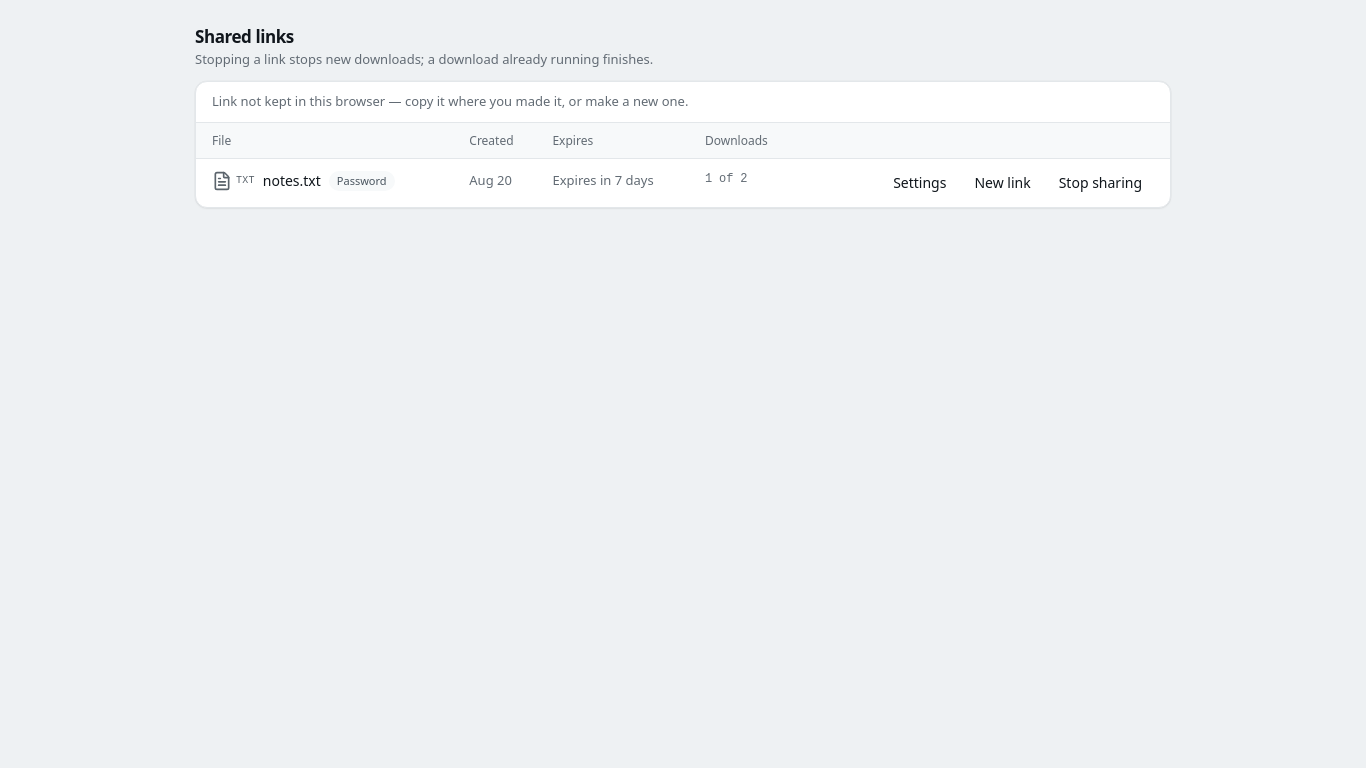
Test case: the actions › Stop sharing asks, then revokes and the row leaves
Expected: the link "notes.txt" is shown, [263,171,321,191]
Click the button "Stop sharing" at (1100,183), box [1047,167,1154,199]
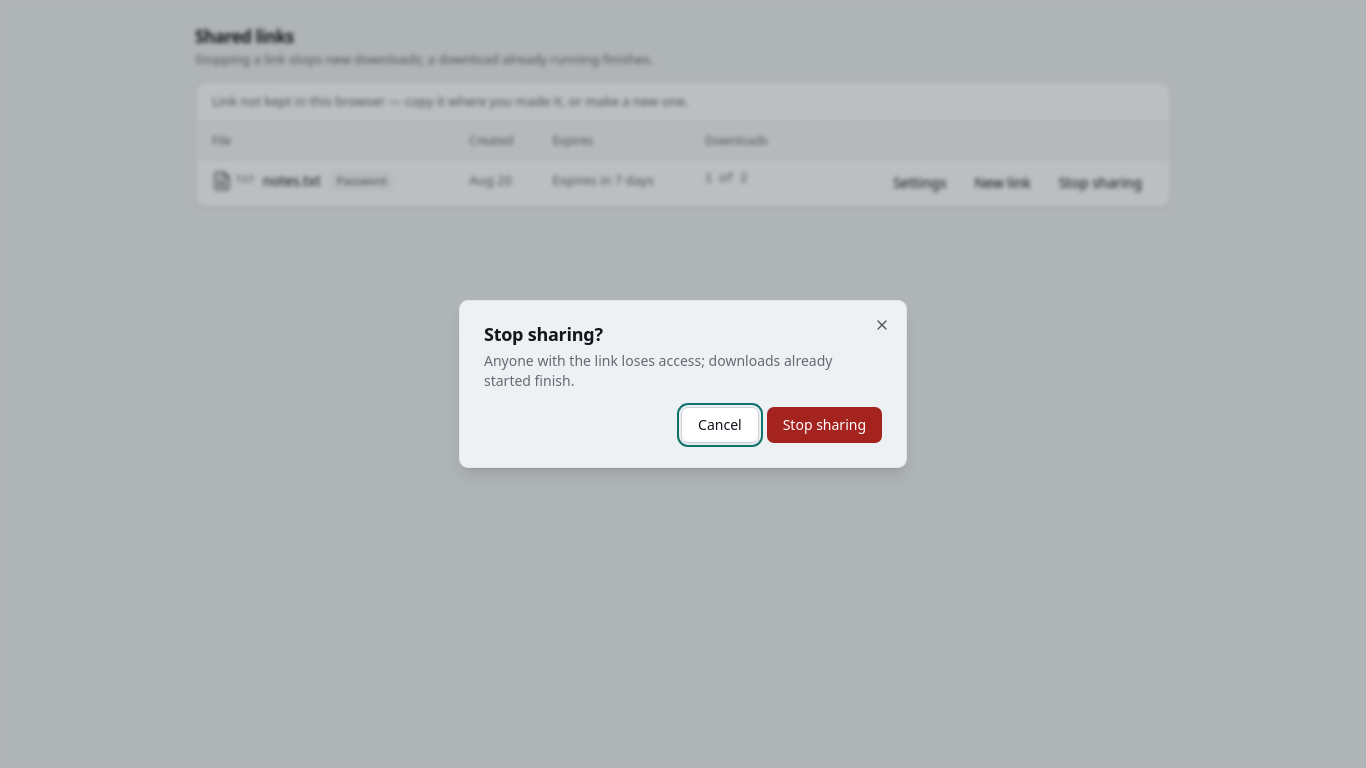
Click the button "Stop sharing" at (824,425), box [767,407,882,443]
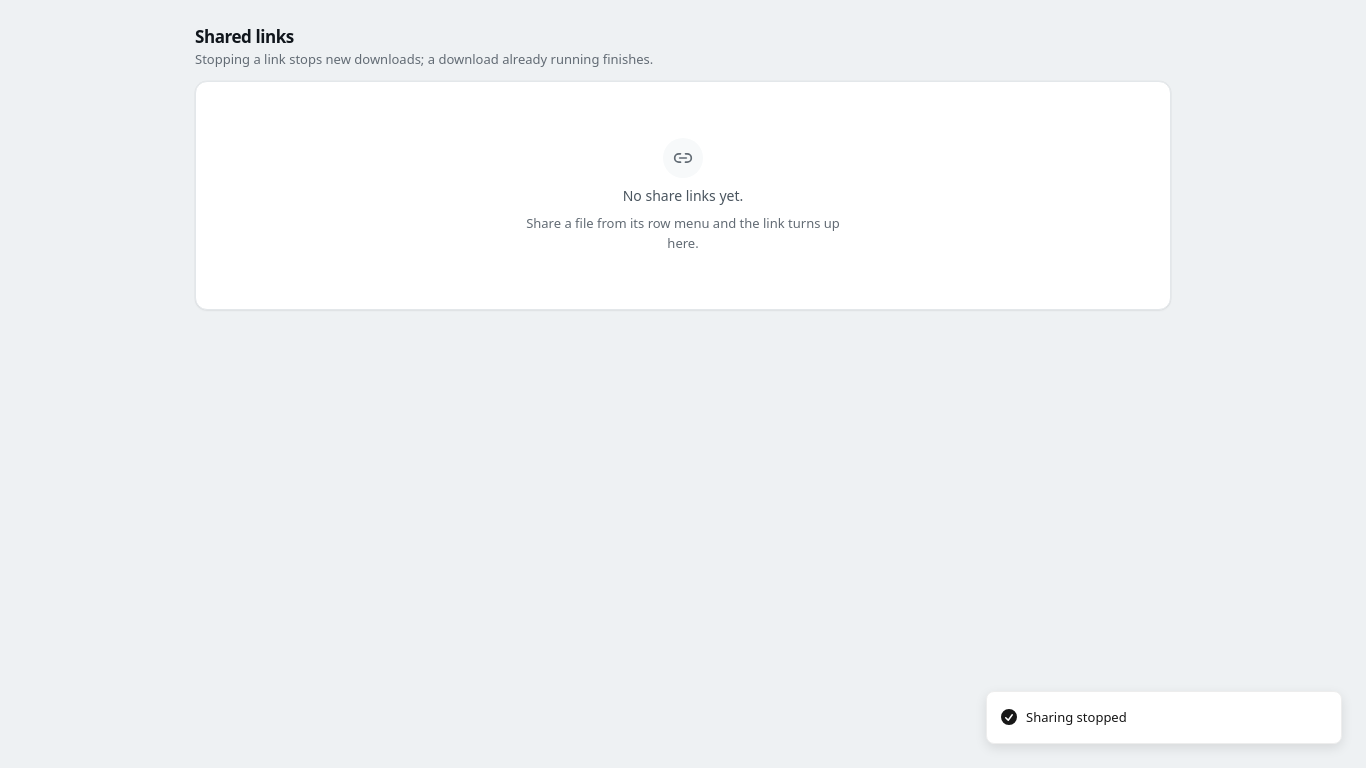
Expected: the text "No share links yet." is shown, [623,186,743,206]
Expected: the text "Sharing stopped" is shown, [1026,708,1127,727]
